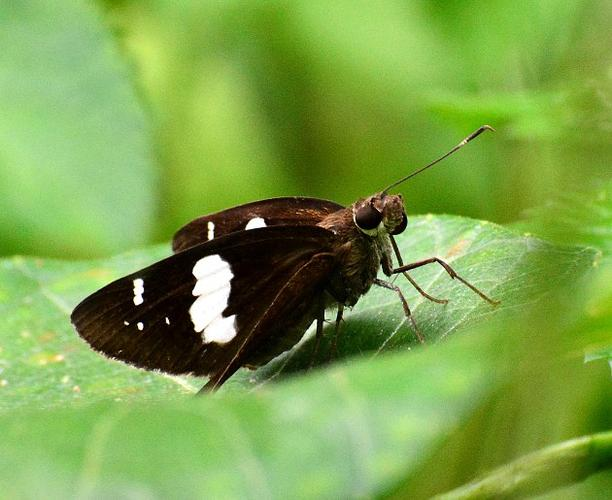Hesperiidae: (63, 117, 509, 393)
